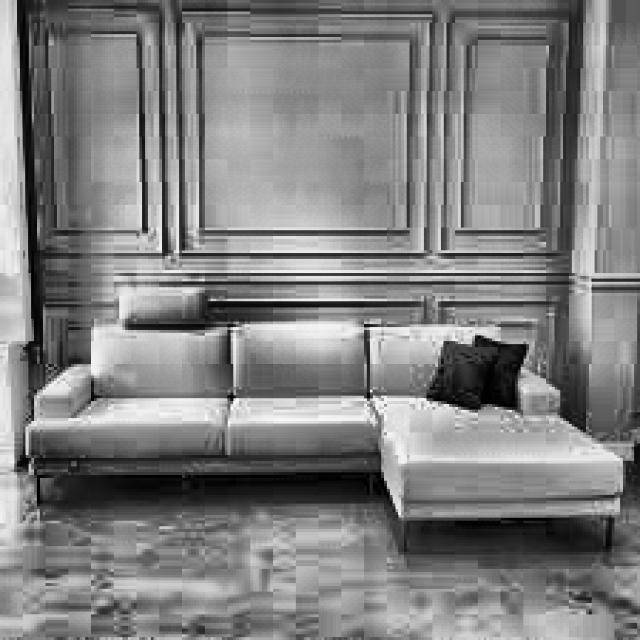sofa: (26, 324, 614, 540)
